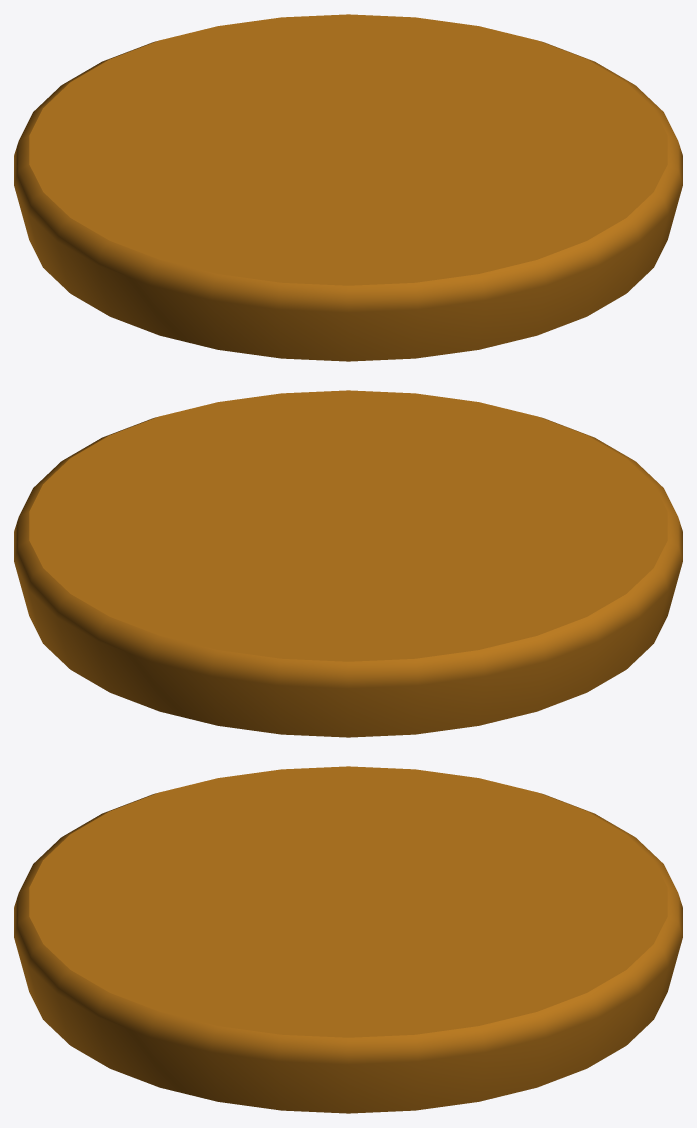
File: Bumper_Base_A.fbx
The picture shows the model from 3 angles, top to bottom: view 1: azimuth 30°, elevation 25°; view 2: azimuth 150°, elevation 25°; view 3: azimuth 270°, elevation 25°; orthographic projection.
Visible parts, largest first — view 1: Bumper_Base_A; view 2: Bumper_Base_A; view 3: Bumper_Base_A.
Part boxes in pixels (bbox=[...]): Bumper_Base_A: bbox=[14, 14, 682, 361]; Bumper_Base_A: bbox=[14, 390, 682, 737]; Bumper_Base_A: bbox=[14, 766, 682, 1113].
Size of the model in its own units: 5.59 by 0.6952 by 5.56.
